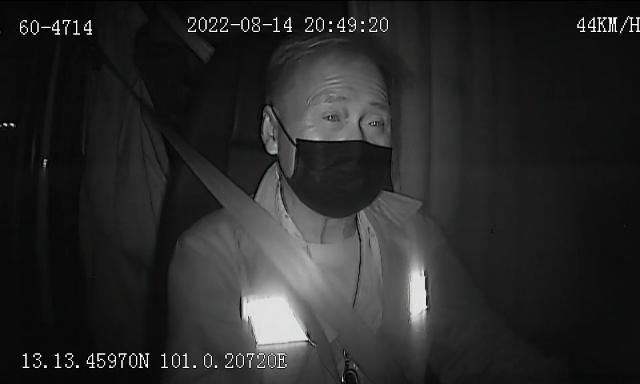SafeDriving: (358, 107, 393, 135), (316, 104, 348, 127)
Seatbelt: (175, 124, 408, 384)
